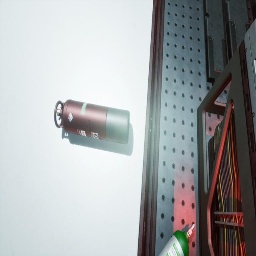0: (158, 224, 195, 256)
NitrogenTank ,: (54, 99, 130, 145)
